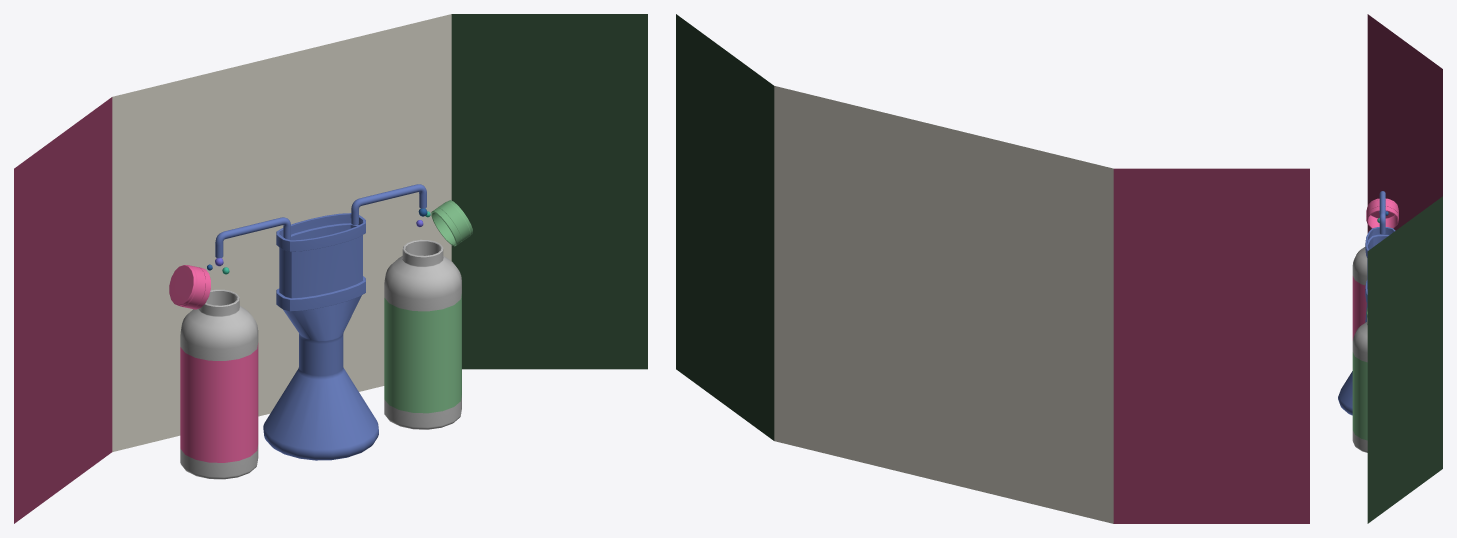
File: science-fair.glb
The picture shows the model from 3 angles, left to right: view 1: azimuth 30°, elevation 25°; view 2: azimuth 150°, elevation 25°; view 3: azimuth 270°, elevation 25°; orthographic projection. The views are drawn at different scales.
Parts seen in each view (by area): view 1: polySurface10, polySurface9, polySurface11, polySurface3, polySurface7.001, polySurface7, polySurface6.001, polySurface6, pCylinder5, pCylinder6; view 2: polySurface10, polySurface11, polySurface9; view 3: polySurface9, polySurface11, polySurface7, polySurface7.001, polySurface3, polySurface6.001, pCylinder6.
Part boxes in pixels (bbox=[...]): polySurface10: bbox=[112, 14, 451, 451]; polySurface9: bbox=[451, 14, 647, 369]; polySurface11: bbox=[14, 97, 112, 523]; polySurface3: bbox=[263, 213, 378, 460]; polySurface7.001: bbox=[180, 289, 258, 479]; polySurface7: bbox=[384, 239, 461, 429]; polySurface6.001: bbox=[169, 265, 210, 309]; polySurface6: bbox=[431, 200, 472, 246]; pCylinder5: bbox=[351, 184, 426, 224]; pCylinder6: bbox=[215, 217, 290, 258]; polySurface10: bbox=[774, 86, 1113, 523]; polySurface11: bbox=[1113, 168, 1309, 523]; polySurface9: bbox=[676, 14, 774, 440]; polySurface9: bbox=[1367, 196, 1442, 523]; polySurface11: bbox=[1367, 14, 1442, 233]; polySurface7: bbox=[1352, 317, 1367, 452]; polySurface7.001: bbox=[1352, 247, 1367, 340]; polySurface3: bbox=[1338, 227, 1395, 415]; polySurface6.001: bbox=[1366, 198, 1398, 228]; pCylinder6: bbox=[1379, 191, 1385, 234].
Bounding box in the file's own units: 1.87 × 1 × 0.3485.
